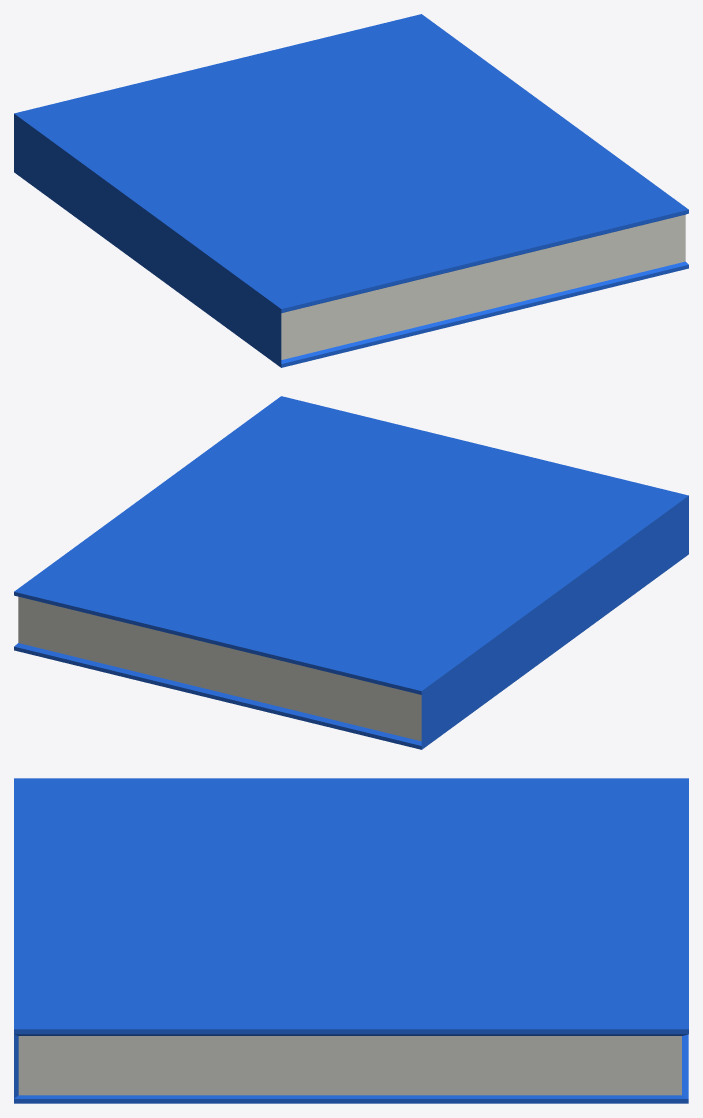
The model's file is book.fbx.
3 views of the same model, one above another, from view 1: azimuth 30°, elevation 25°; view 2: azimuth 150°, elevation 25°; view 3: azimuth 270°, elevation 25° (orthographic). The views are drawn at different scales.
Visible parts, largest first — view 1: book; view 2: book; view 3: book.
Boxes of the visible parts, left/top/right/bottom form: book: left=14, top=14, right=688, bottom=367; book: left=14, top=396, right=688, bottom=749; book: left=14, top=778, right=688, bottom=1103.
Bounding box in the file's own units: 179 × 24.7 × 203.
